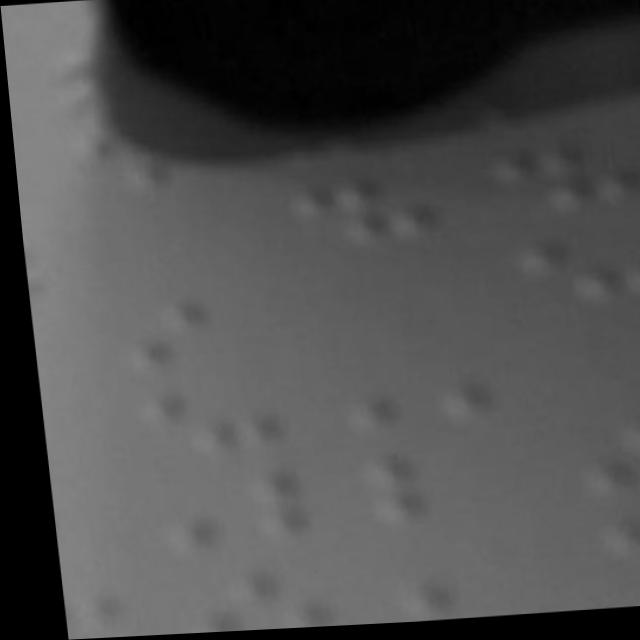braiile: (329, 338, 482, 435), (96, 289, 263, 375), (472, 137, 640, 222), (142, 471, 303, 557), (116, 374, 283, 456), (277, 168, 436, 253), (369, 537, 524, 623), (336, 447, 491, 533), (160, 560, 330, 635), (495, 227, 640, 312)
